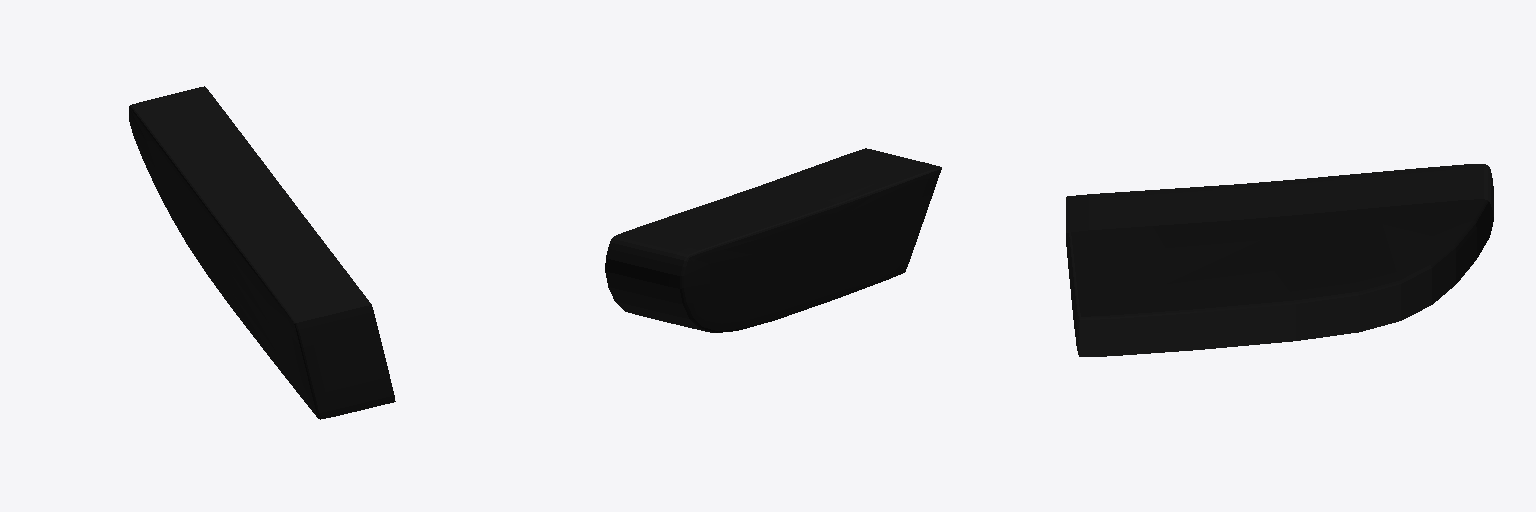
The model's file is original-11.obj.
3 renders of one model, left to right at view 1: azimuth 30°, elevation 25°; view 2: azimuth 150°, elevation 25°; view 3: azimuth 270°, elevation 25°, orthographic.
Visible parts, largest first — view 1: #ID88; view 2: #ID88; view 3: #ID88.
Part boxes in pixels (bbox=[...]): #ID88: bbox=[129, 86, 395, 419]; #ID88: bbox=[605, 148, 941, 332]; #ID88: bbox=[1066, 164, 1493, 356].
Bounding box in the file's own units: 0.0828 × 0.0958 × 0.2264.